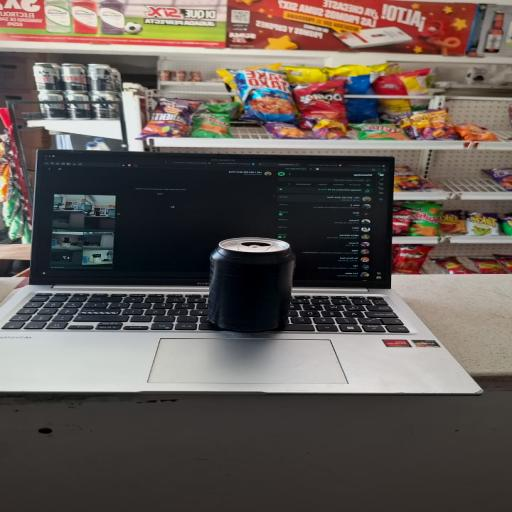LATA: (190, 236, 311, 336)
